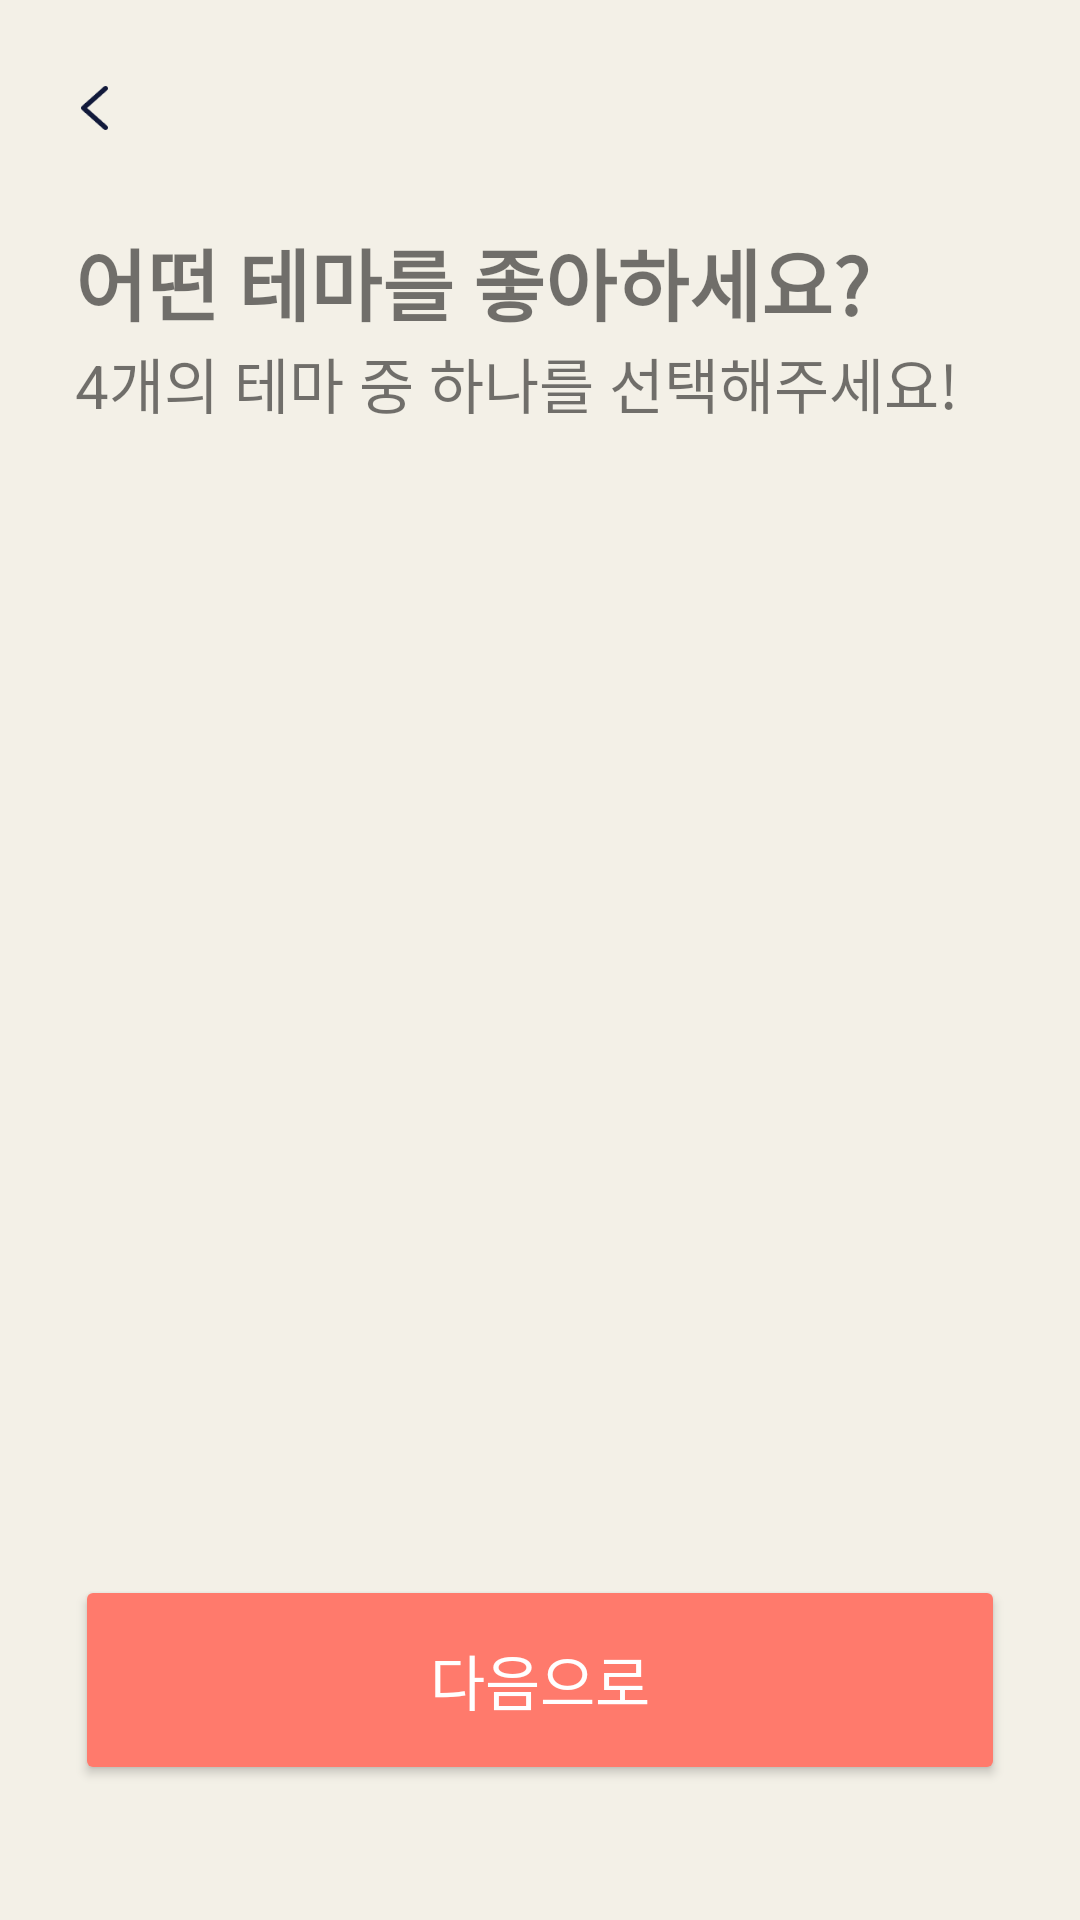

Where to tap for icons on this 1080*1920 app screen, as point (x, y):
arrow: point (94, 108)
